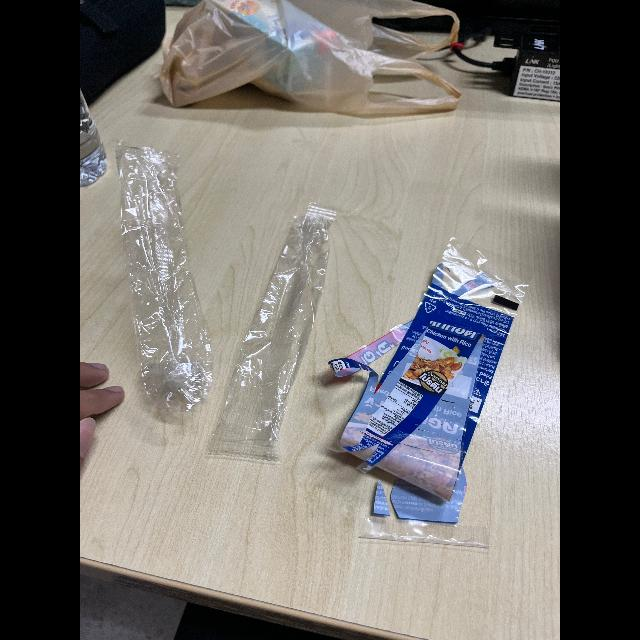scrap_plastic: (342, 237, 532, 568), (213, 203, 343, 463), (120, 136, 220, 432)
